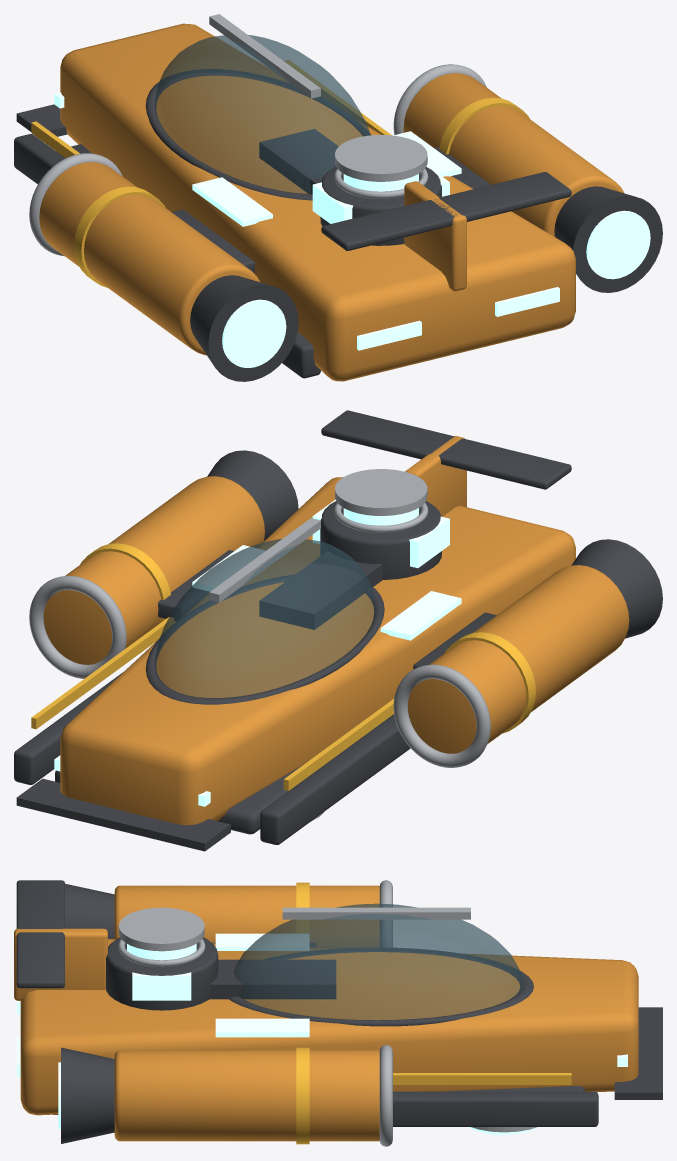
File: HoverVehicle.fbx
3 renders of one model, top to bottom at view 1: azimuth 30°, elevation 25°; view 2: azimuth 150°, elevation 25°; view 3: azimuth 270°, elevation 25°, orthographic. The views are drawn at different scales.
Visible parts, largest first — view 1: Chassis, Thruster_L, Cockpit, Thruster_R, PowerCore; view 2: Chassis, Thruster_L, Cockpit, Thruster_R, PowerCore; view 3: Chassis, Thruster_R, Cockpit, Thruster_L, PowerCore.
Boxes of the visible parts, x1,y1,x2,y2 form: Chassis: [14, 23, 575, 381]; Thruster_L: [29, 153, 298, 381]; Cockpit: [145, 14, 371, 200]; Thruster_R: [393, 64, 662, 292]; PowerCore: [312, 135, 449, 245]; Chassis: [14, 410, 575, 851]; Thruster_L: [393, 539, 662, 767]; Cockpit: [145, 518, 384, 704]; Thruster_R: [29, 450, 298, 678]; PowerCore: [312, 469, 449, 579]; Chassis: [14, 880, 662, 1134]; Thruster_R: [58, 1045, 392, 1146]; Cockpit: [229, 903, 533, 1026]; Thruster_L: [65, 880, 392, 948]; PowerCore: [106, 907, 218, 1010].
Size of the model in its own units: 3.66 by 1.42 by 4.83.
